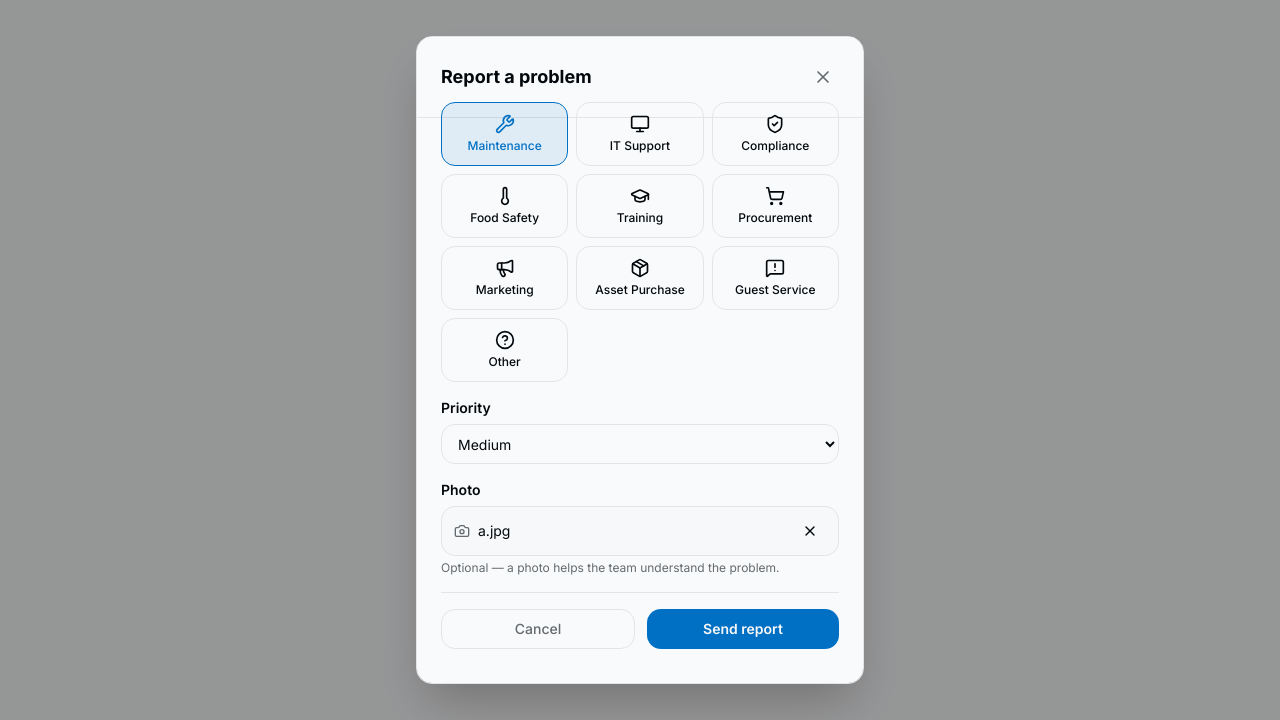
Test: quick report mode (Todo-Pilot §20) › no signal: says the report is saved on the device and will send itself
Earlier steps of the test are not shown.
(page scrolled)
Click the button "Send report": (743, 629) [647,609,839,649]
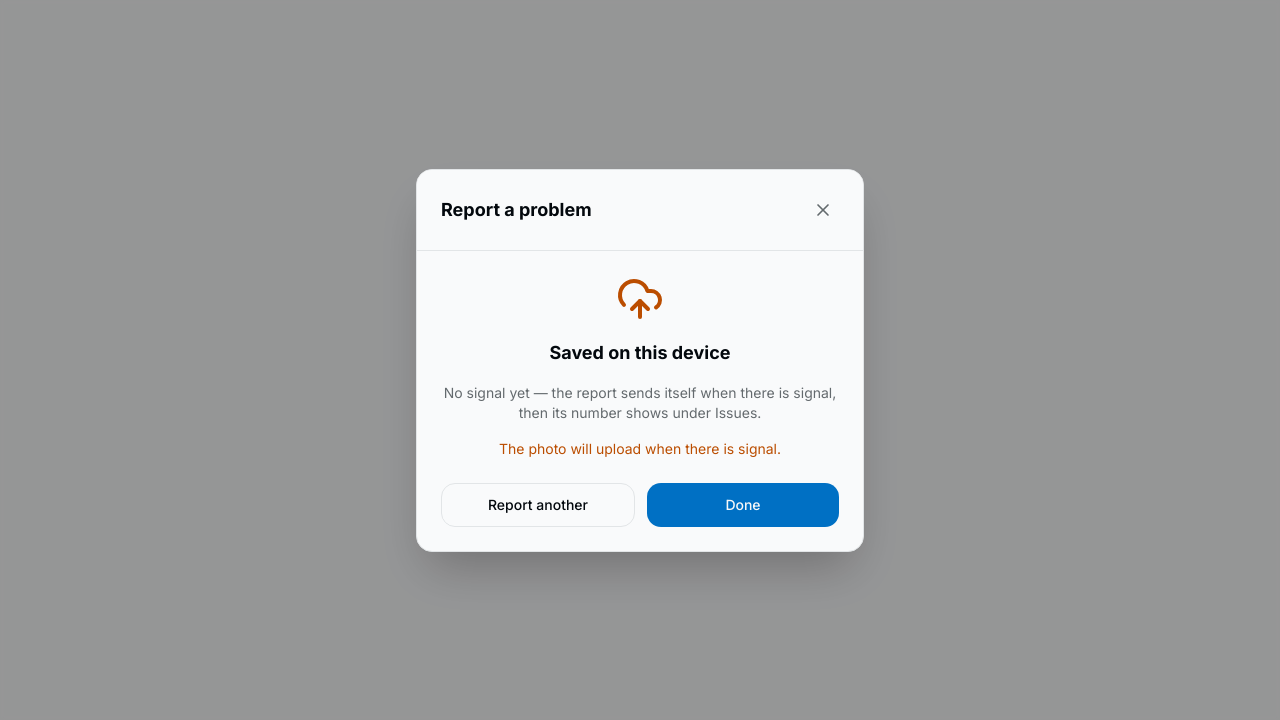
Check: the text "Saved on this device" is shown, box [550,342,730,362]
Check: the text "sends itself when there is signal" is shown, box [444,384,836,420]
